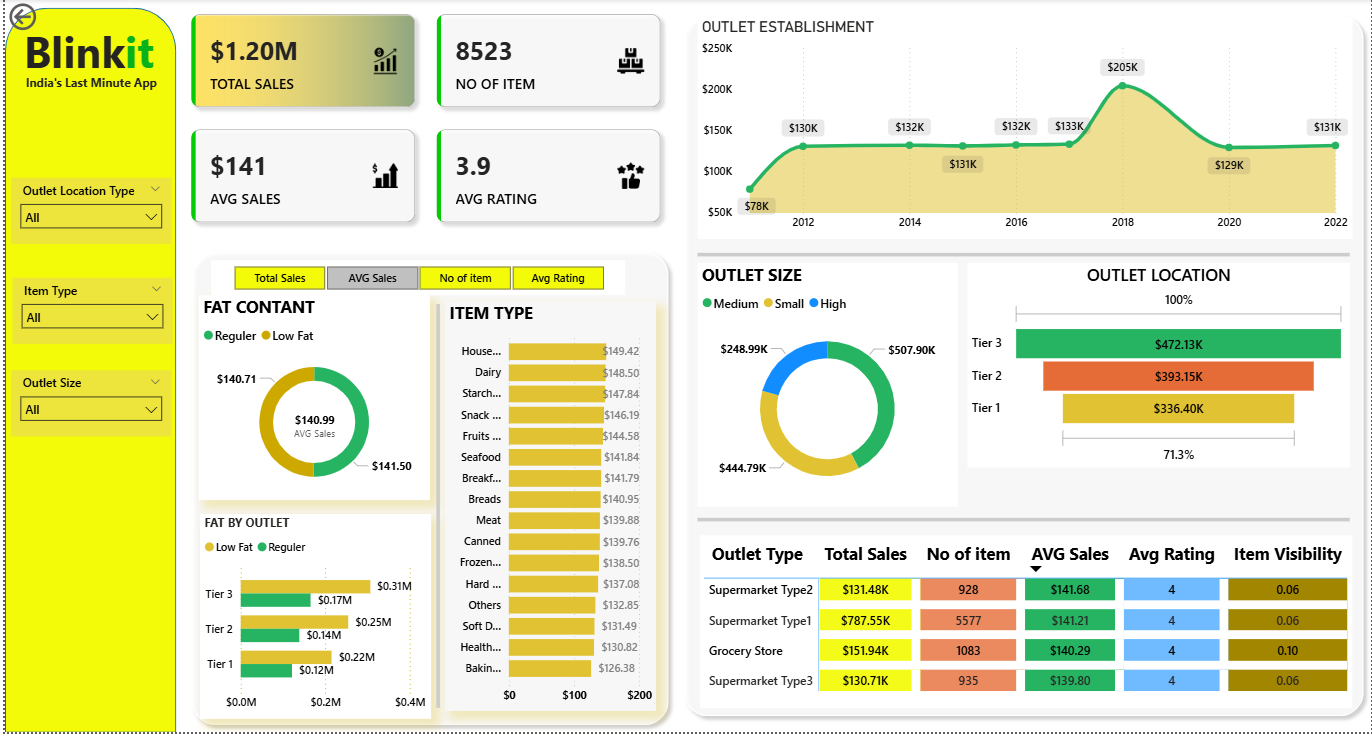

What the dashboard file says about the page in this screenshot:
{"tool":"powerbi","page":{"name":"Page 1","canvas":[1536,825],"ordinal":0},"visuals":[{"type":"shape","box":[0,9.8,192.6,815.4],"z":0},{"type":"textbox","box":[0,21.1,188.4,75.9],"z":1000},{"type":"textbox","box":[14.1,80.1,165.9,33.7],"z":2000},{"type":"cardVisual","fields":{"Data":["Blinkit_new.Total Sales","Blinkit_new.No of item","Blinkit_new.AVG Sales","Blinkit_new.Avg Rating"]},"box":[192.6,0,562.4,269.9],"z":3000},{"type":"shape","box":[201,275.6,553.9,549.7],"z":4000},{"type":"donutChart","title":"FAT CONTANT","fields":{"Y":["Blinkit_new.AVG Sales"],"Category":["Blinkit_new.Item Fat Content"]},"box":[217.9,333.2,260.1,230.6],"z":5000},{"type":"slicer","fields":{"Values":["Metrix.Metrix"]},"box":[232,293.8,465.4,39.4],"z":6000},{"type":"cardVisual","fields":{"Data":["Blinkit_new.AVG Sales"]},"box":[302.3,448.5,92.8,52],"z":7000},{"type":"clusteredBarChart","title":"FAT BY OUTLET","fields":{"Y":["Blinkit_new.Total Sales"],"Category":["Blinkit_new.Outlet Location Type"],"Series":["Blinkit_new.Item Fat Content"]},"box":[219.3,579.2,260.1,230.6],"z":8000},{"type":"shape","box":[479.4,343,15.5,454.1],"z":9000},{"type":"clusteredBarChart","title":"ITEM TYPE","fields":{"Y":["Blinkit_new.AVG Sales"],"Category":["Blinkit_new.Item Type"]},"box":[494.9,340.2,237.6,461.1],"z":10000},{"type":"shape","box":[755,9.8,781.7,805.6],"z":11000},{"type":"lineChart","title":"OUTLET ESTABLISHMENT","fields":{"Y":["Blinkit_new.Total Sales"],"Category":["Blinkit_new.Outlet Establishment Year"]},"box":[778.9,21.1,736.7,248.9],"z":12000},{"type":"shape","box":[778.9,281.2,733.9,12.7],"z":13000},{"type":"donutChart","title":"OUTLET SIZE","fields":{"Y":["Blinkit_new.Total Sales"],"Category":["Blinkit_new.Outlet Size"]},"box":[778.9,296.7,292.4,274.2],"z":14000},{"type":"funnel","title":"OUTLET LOCATION","fields":{"Y":["Blinkit_new.Total Sales"],"Category":["Blinkit_new.Outlet Location Type"]},"box":[1082.6,296.7,430.2,230.6],"z":15000},{"type":"shape","box":[778.9,579.2,733.9,12.7],"z":16000},{"type":"pivotTable","fields":{"Rows":["Blinkit_new.Outlet Type"],"Values":["Blinkit_new.Total Sales","Blinkit_new.No of item","Blinkit_new.AVG Sales","Blinkit_new.Avg Rating","Avg(Blinkit_new.Item Visibility)"]},"box":[781.7,603.1,733.9,194],"z":17000},{"type":"actionButton","box":[0,0,100,40],"z":18000},{"type":"slicer","fields":{"Values":["Blinkit_new.Outlet Location Type"]},"box":[7,201,180,74.5],"z":18001},{"type":"slicer","fields":{"Values":["Blinkit_new.Item Type"]},"box":[8.4,313.5,180,74.5],"z":18002},{"type":"slicer","fields":{"Values":["Blinkit_new.Outlet Size"]},"box":[7,417.6,180,74.5],"z":18003}]}

Visuals, with their boxes in screenshot pixels (x1, y1, x2, y2), scaled from the page's 1536x825 canvas onto the 1372x736 screenshot:
shape: left=0, top=9, right=172, bottom=735
textbox: left=0, top=19, right=168, bottom=87
textbox: left=13, top=71, right=161, bottom=102
cardVisual - Blinkit_new.Total Sales x Blinkit_new.No of item: left=172, top=0, right=674, bottom=241
shape: left=180, top=246, right=674, bottom=735
"FAT CONTANT" donutChart: left=195, top=297, right=427, bottom=503
slicer - Metrix.Metrix: left=207, top=262, right=623, bottom=297
cardVisual - Blinkit_new.AVG Sales: left=270, top=400, right=353, bottom=447
"FAT BY OUTLET" clusteredBarChart: left=196, top=517, right=428, bottom=722
shape: left=428, top=306, right=442, bottom=711
"ITEM TYPE" clusteredBarChart: left=442, top=303, right=654, bottom=715
shape: left=674, top=9, right=1371, bottom=727
"OUTLET ESTABLISHMENT" lineChart: left=696, top=19, right=1354, bottom=241
shape: left=696, top=251, right=1351, bottom=262
"OUTLET SIZE" donutChart: left=696, top=265, right=957, bottom=509
"OUTLET LOCATION" funnel: left=967, top=265, right=1351, bottom=470
shape: left=696, top=517, right=1351, bottom=528
pivotTable - Blinkit_new.Outlet Type x Blinkit_new.Total Sales: left=698, top=538, right=1354, bottom=711
actionButton: left=0, top=0, right=89, bottom=36
slicer - Blinkit_new.Outlet Location Type: left=6, top=179, right=167, bottom=246
slicer - Blinkit_new.Item Type: left=8, top=280, right=168, bottom=346
slicer - Blinkit_new.Outlet Size: left=6, top=373, right=167, bottom=439
